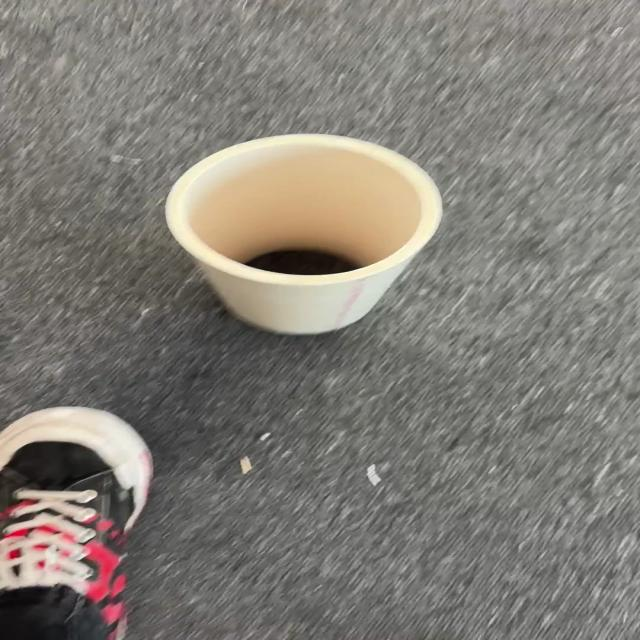Coral: (162, 132, 444, 336)
